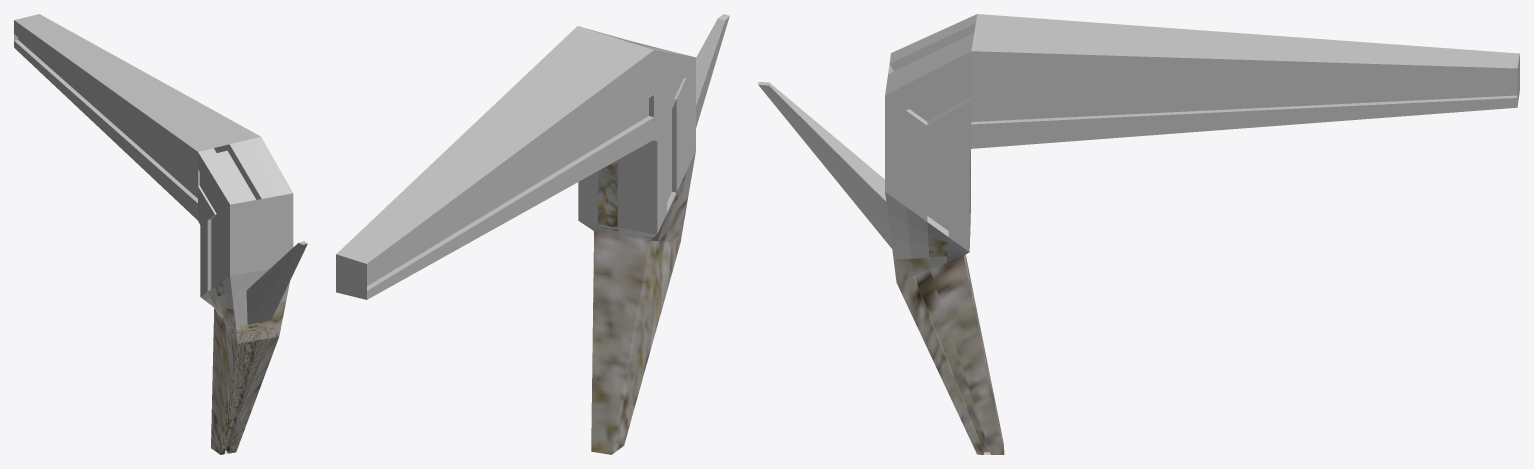
Rendered from guardian_leg.obj.
3 renders of one model, left to right at view 1: azimuth 30°, elevation 25°; view 2: azimuth 150°, elevation 25°; view 3: azimuth 270°, elevation 25°, orthographic. The views are drawn at different scales.
Parts seen in each view (by area): view 1: leg_Cube.002; view 2: leg_Cube.002; view 3: leg_Cube.002.
Part boxes in pixels (x1,y1,x2,y2): leg_Cube.002: [14, 14, 307, 454]; leg_Cube.002: [336, 14, 729, 454]; leg_Cube.002: [758, 14, 1519, 454].
Size of the model in its own units: 0.6354 by 3.11 by 5.13.
